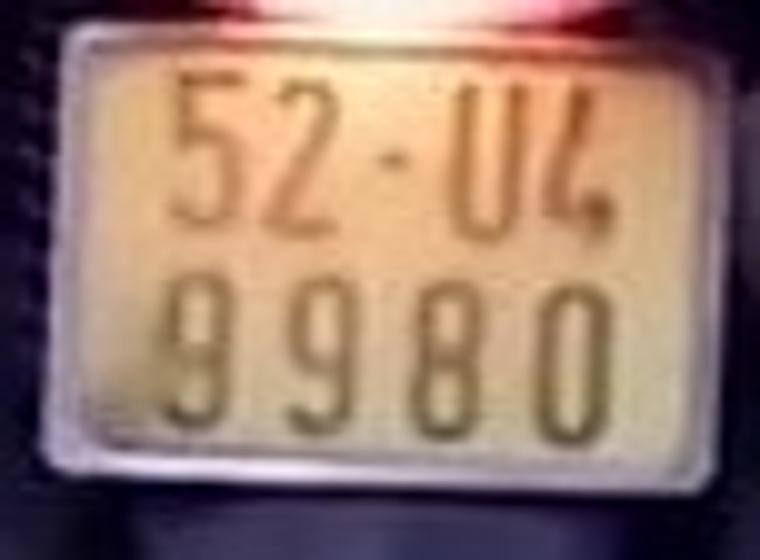0: (525, 277, 628, 459)
2: (259, 51, 348, 253)
4: (535, 65, 629, 259)
5: (162, 55, 248, 242)
8: (407, 263, 497, 447)
9: (271, 265, 378, 441), (148, 263, 251, 433)
U: (440, 72, 530, 248)
